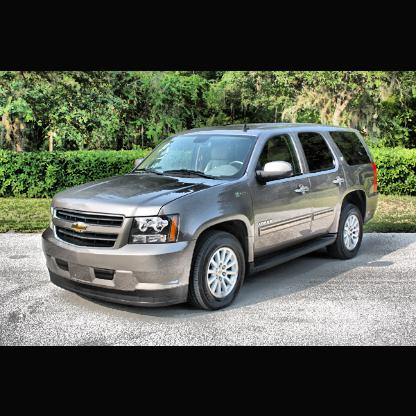Chevrolet Tahoe Hybrid SUV 2012: (42, 120, 381, 312)
